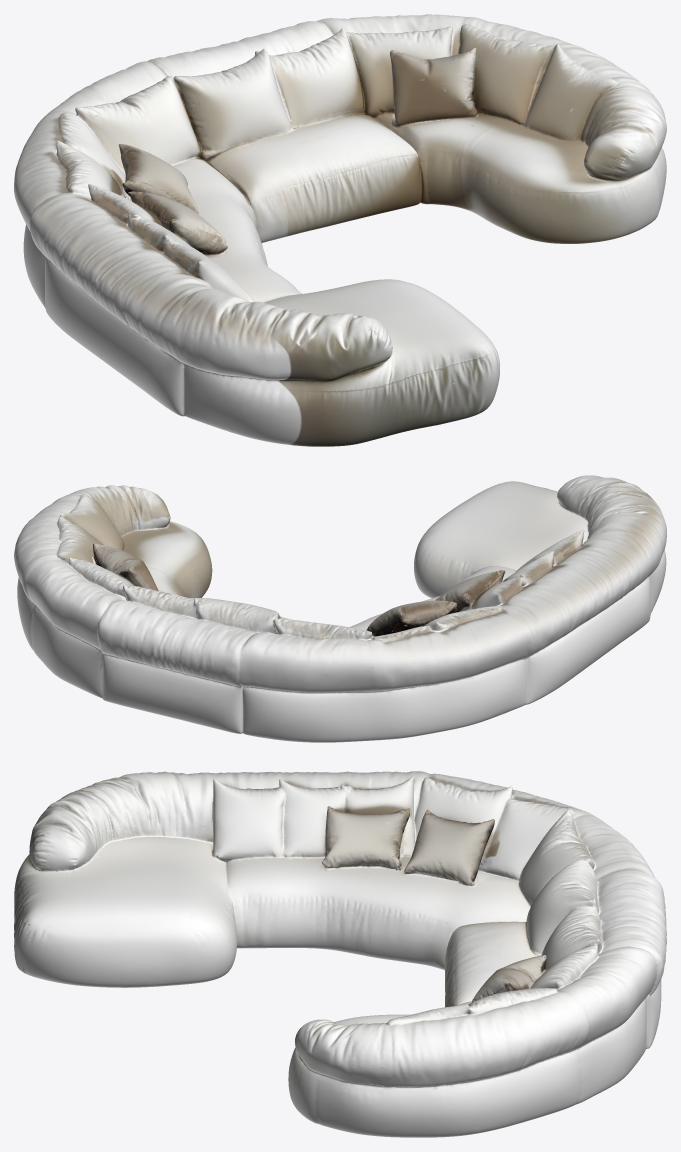
3 views of the same model, one above another, from view 1: azimuth 30°, elevation 25°; view 2: azimuth 150°, elevation 25°; view 3: azimuth 270°, elevation 25° (orthographic). The views are drawn at different scales.
Parts seen in each view (by area): view 1: Mesh_0; view 2: Mesh_0; view 3: Mesh_0.
Part boxes in pixels (x1,y1,x2,y2): Mesh_0: (14,14,666,446); Mesh_0: (14,475,666,742); Mesh_0: (14,771,666,1137).
Size of the model in its own units: 15.71 by 3 by 15.41.
1 material, 1 textured.
